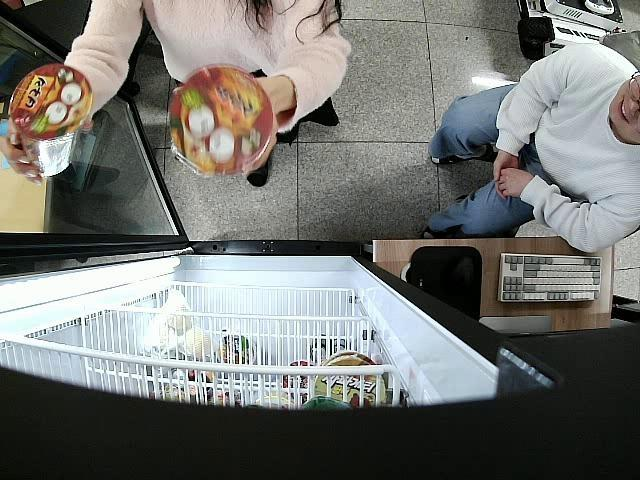06_nuguri_S: (168, 65, 273, 174), (9, 64, 95, 177)
